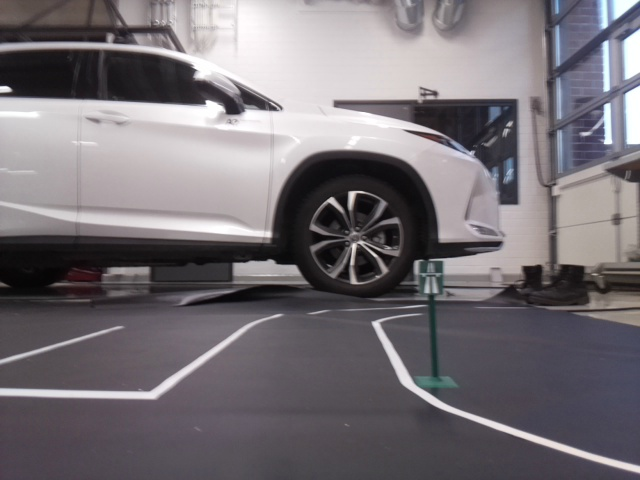HighwayEntrance: (419, 261, 443, 293)
